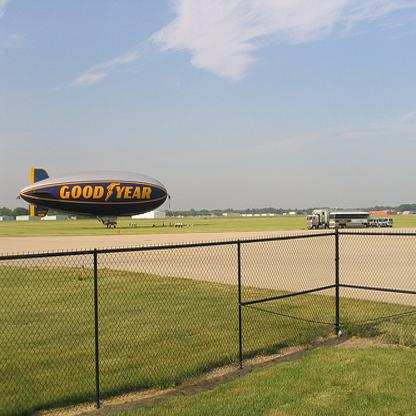Airship: (18, 165, 172, 228)
